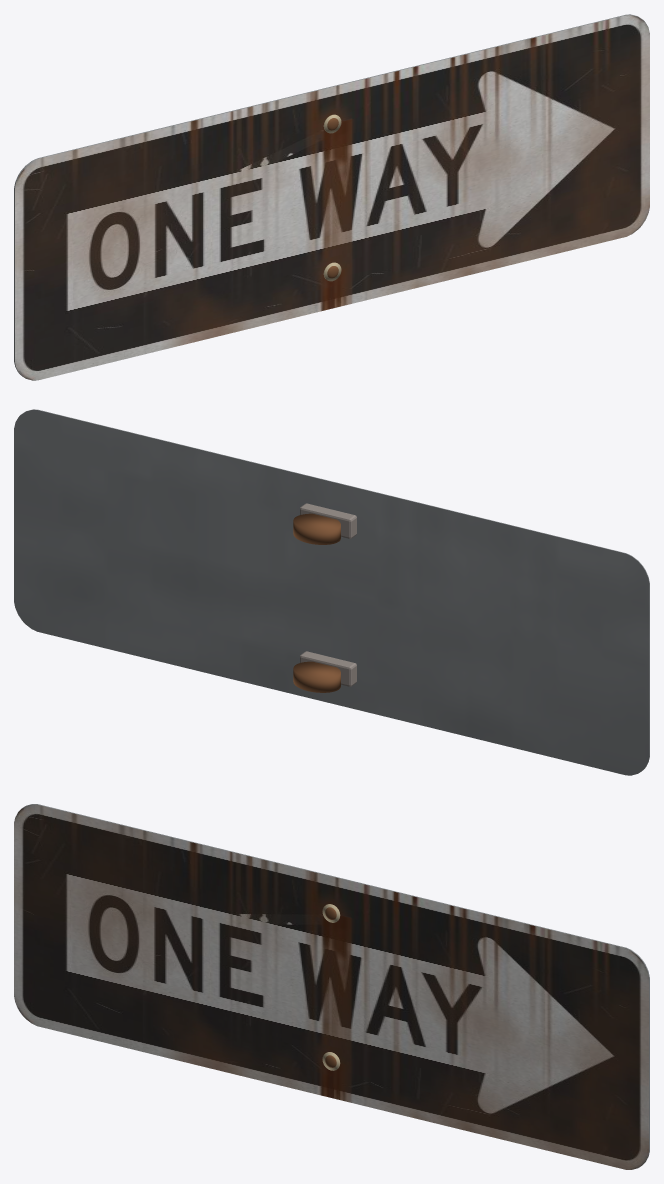
Rendered from oneWayRight-v1-rusty.glb.
3 renders of one model, top to bottom at view 1: azimuth 30°, elevation 25°; view 2: azimuth 150°, elevation 25°; view 3: azimuth 330°, elevation 25°, orthographic.
Parts seen in each view (by area): view 1: oneWayRight-v1-rusty; view 2: oneWayRight-v1-rusty; view 3: oneWayRight-v1-rusty.
Boxes of the visible parts, x1=… form: oneWayRight-v1-rusty: x1=14, y1=14, x2=649, y2=380; oneWayRight-v1-rusty: x1=14, y1=409, x2=649, y2=775; oneWayRight-v1-rusty: x1=14, y1=804, x2=649, y2=1169.
Size of the model in its own units: 1.22 by 0.4066 by 0.0871.
1 material, 1 textured.
